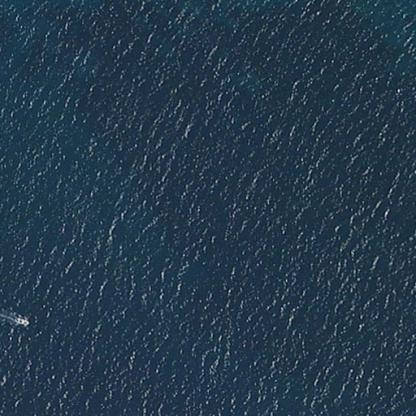ship: (13, 315, 29, 326)
